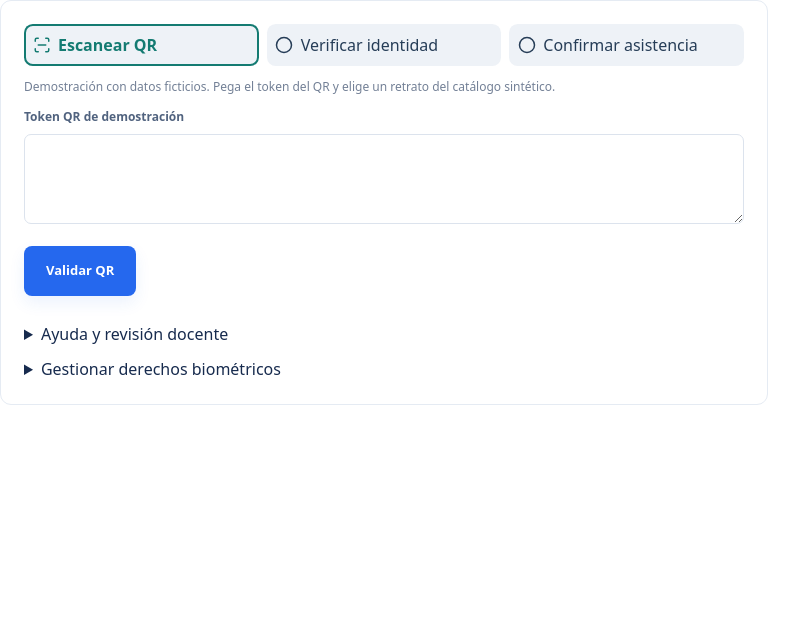
Test: asks before revocation and reports success only after the server confirms
Step 1. Click the heading "Gestionar derechos biométricos" → click(161, 369), box [41,358,281,380]
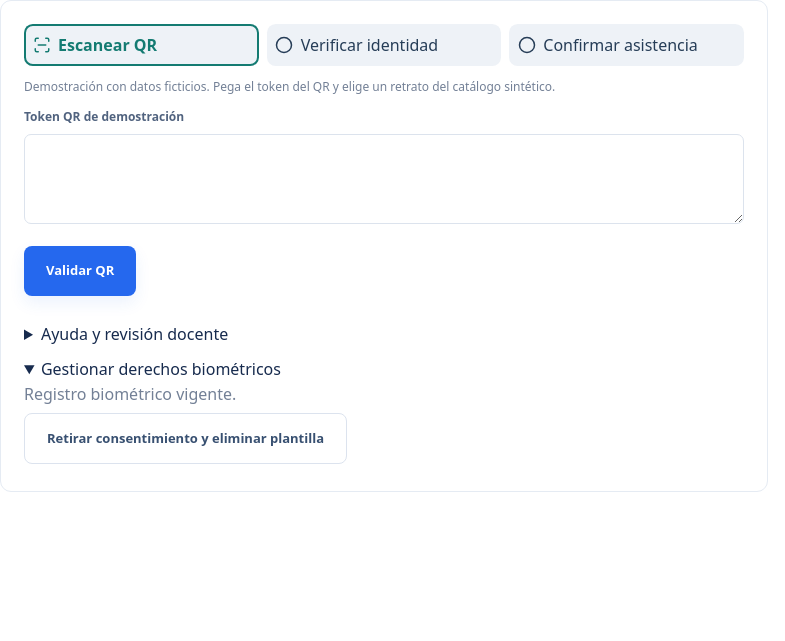
expect the text "Registro biométrico vigente." is shown: met, box [24,383,236,405]
Step 2. Click the button "Retirar consentimiento y eliminar plantilla" → click(186, 438), box [24,413,347,464]
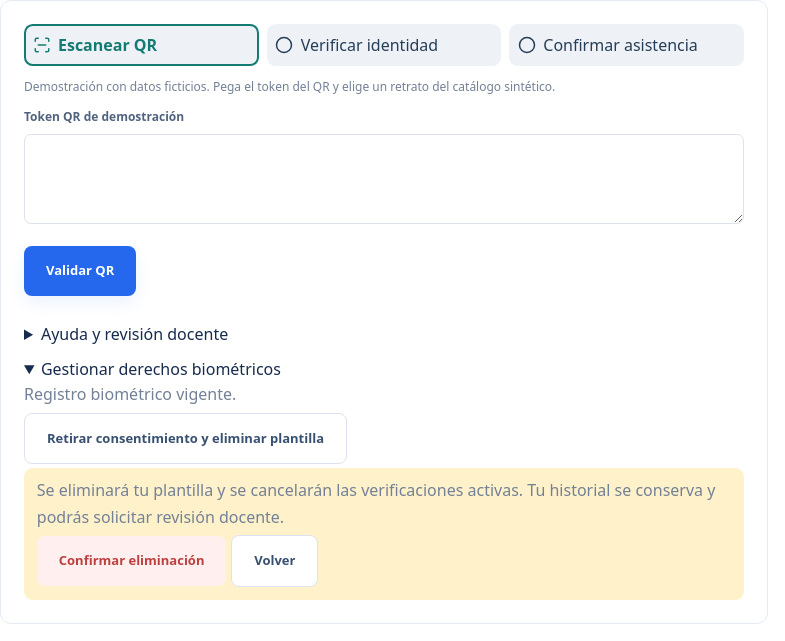
expect the element named "Confirmar retiro" is shown: met, box [24,468,744,600]
Step 3. Click the button "Confirmar eliminación" → click(132, 561), box [37,536,226,586]
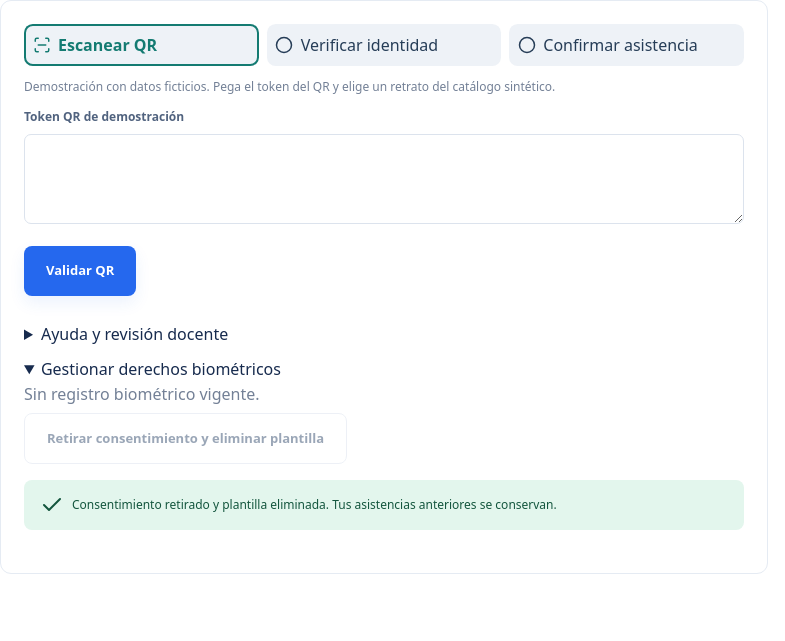
expect the text "Consentimiento retirado y plantilla eliminada" is shown: met, box [72,496,557,513]
expect the text "Sin registro biométrico vigente." is shown: met, box [24,383,260,405]
